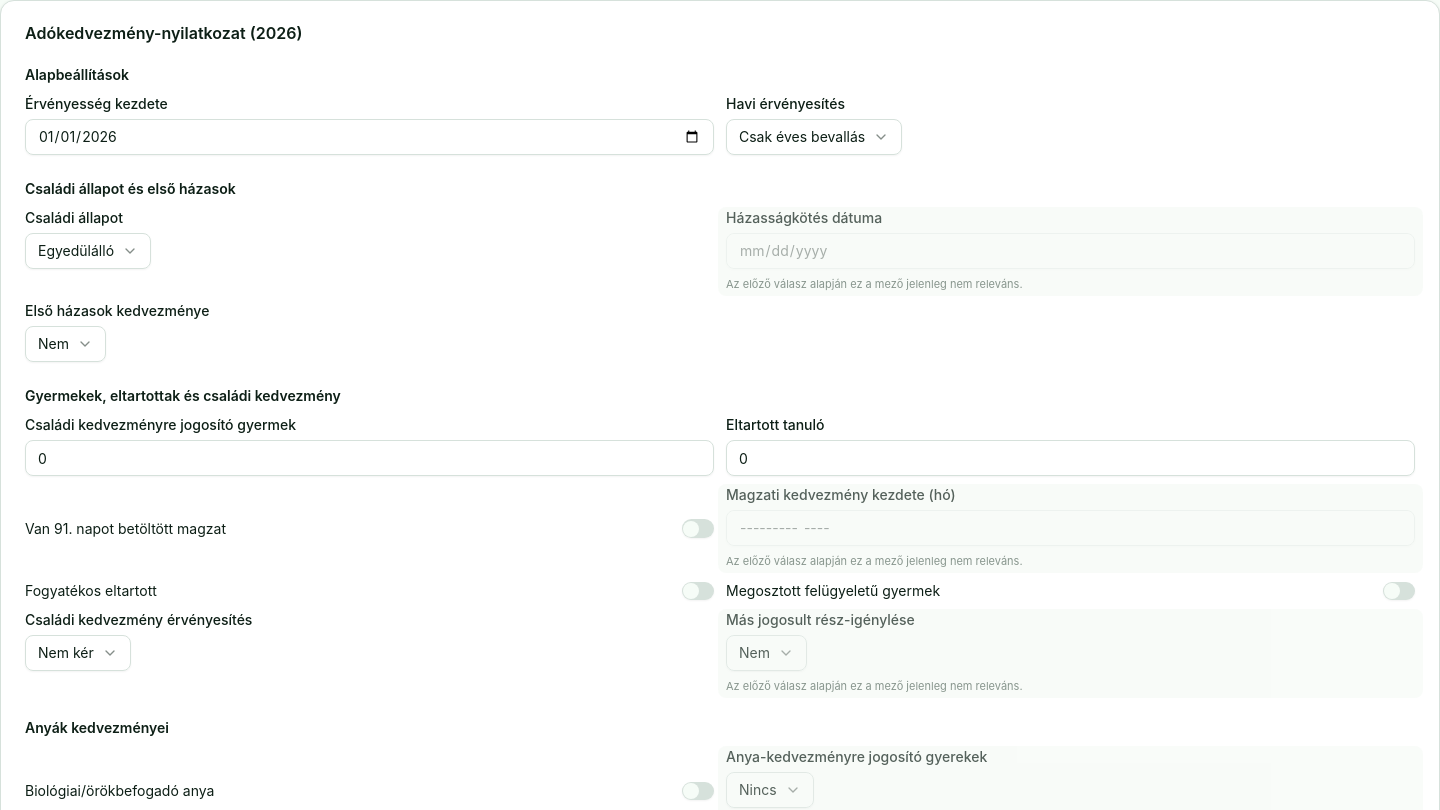
TaxAllowanceSurveyForm — stabil elrendezés › magzat kapcsoló bekapcsolásakor ugyanaz a fieldset aktívvá válik, sorrend nem változik
Step 1. Click the switch in the row of "Van 91. napot betöltött magzat" → (698, 529), box [682,520,714,538]
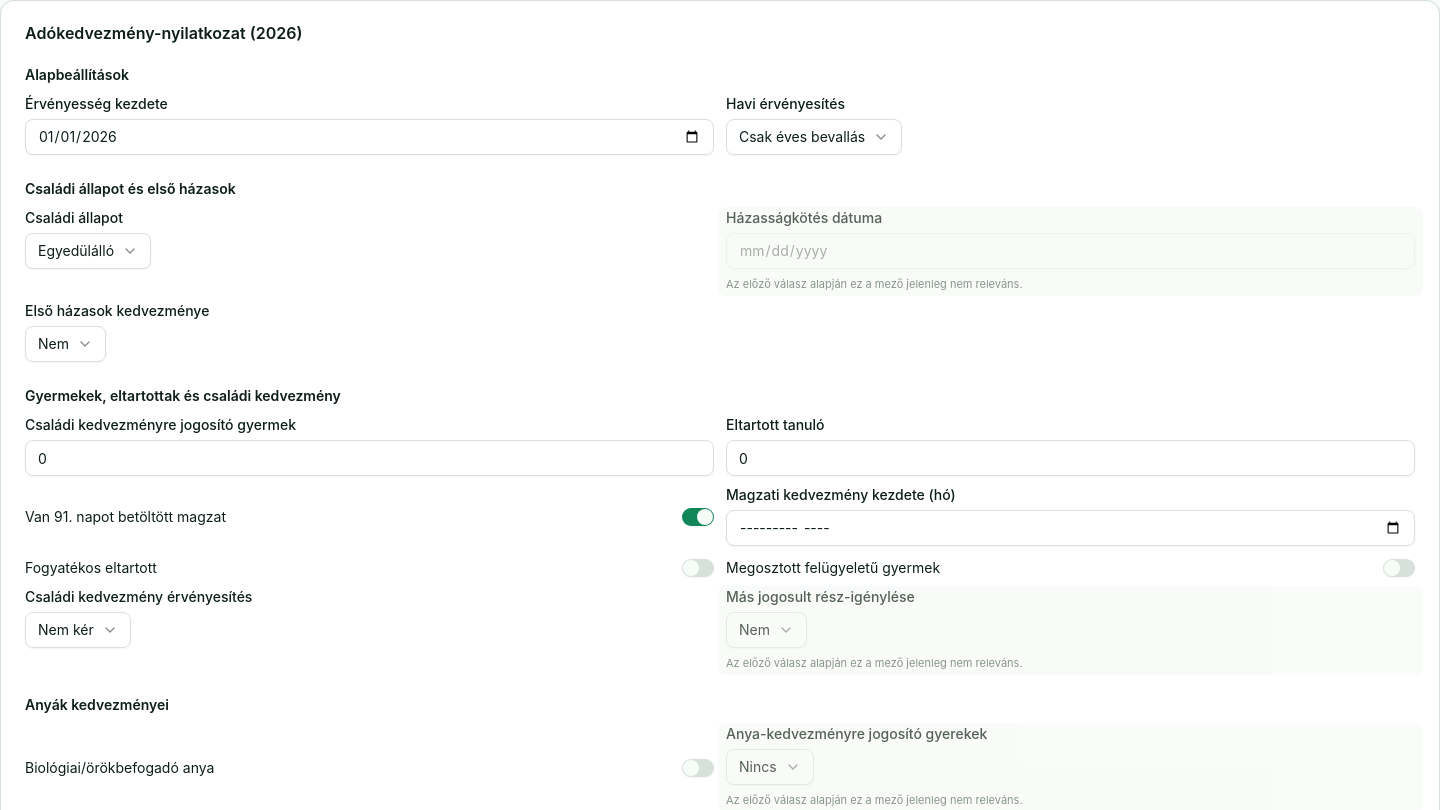
Expected: the element showing "Magzati kedvezmény kezdete (hó)" is enabled, [726,488,1415,546]
